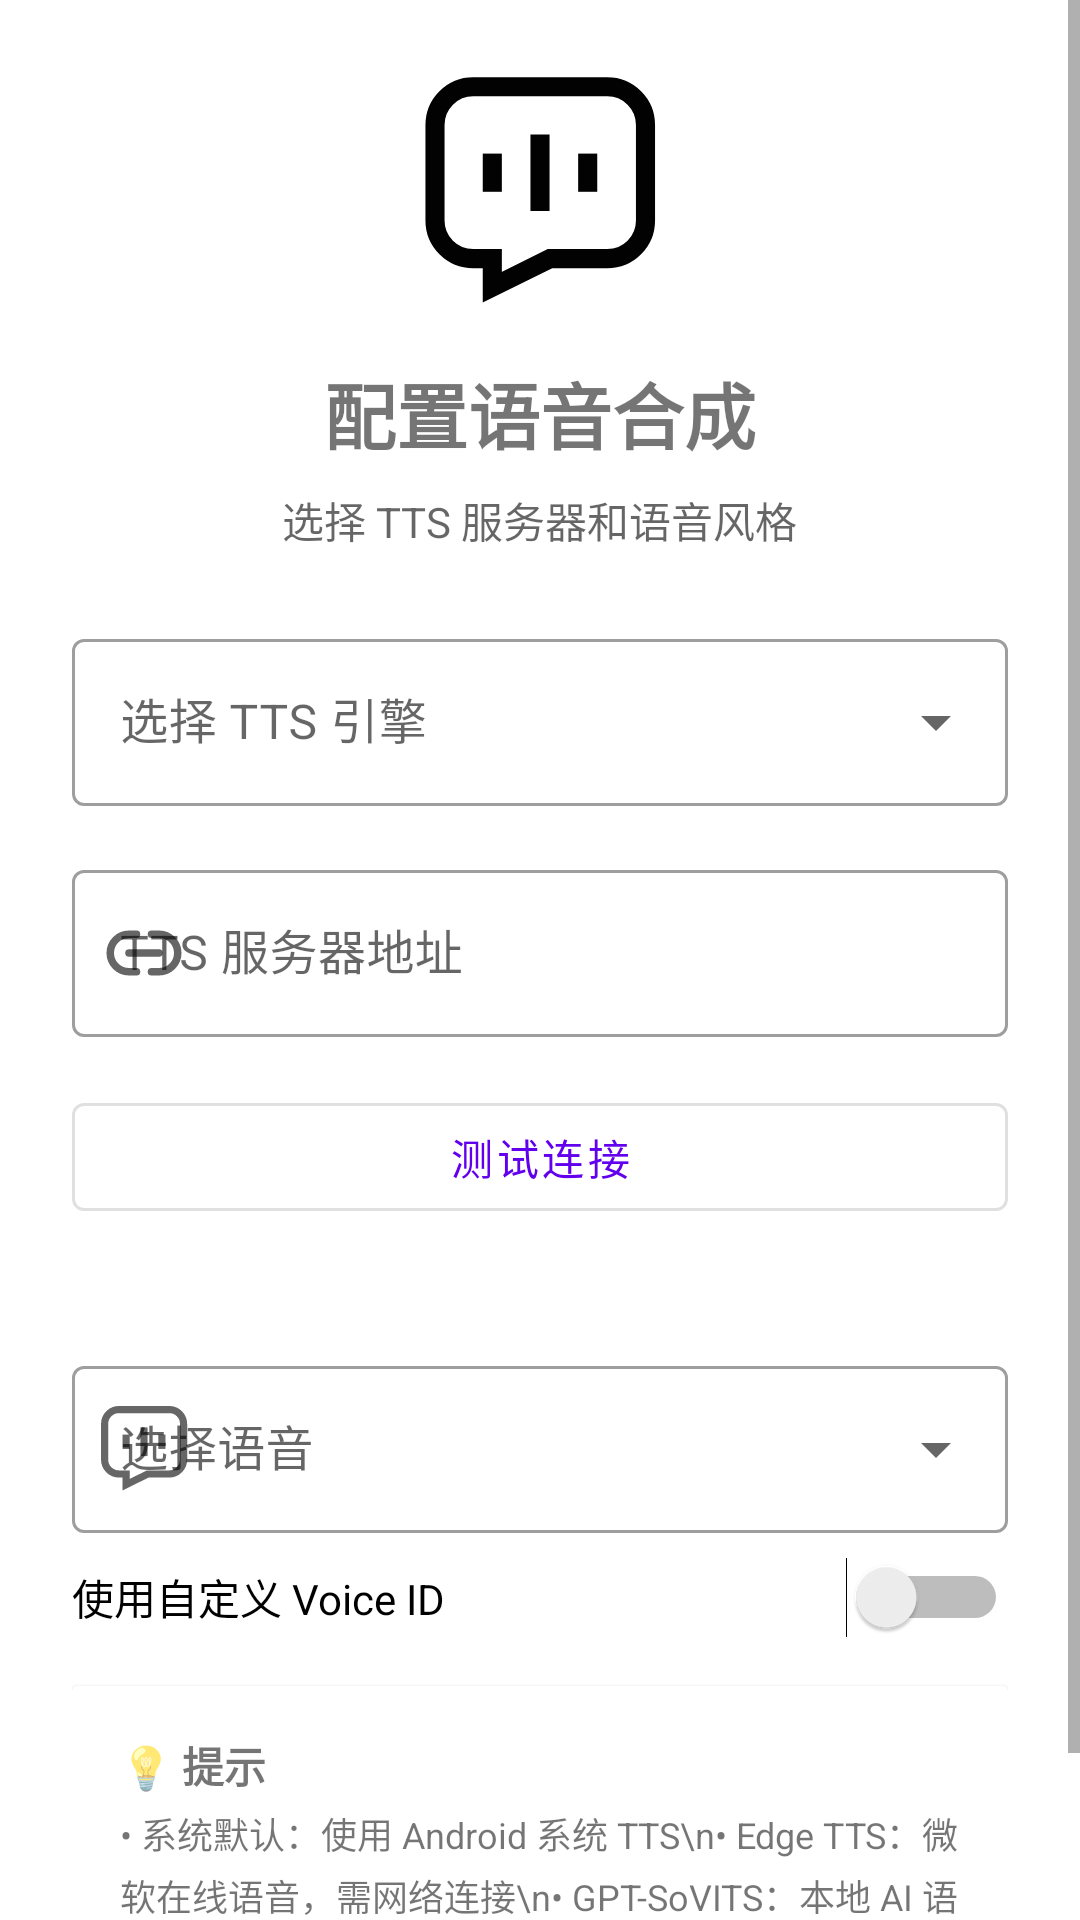

Screen size 1080w x 1920h. Icon name, then its box in pixels as bbox=[x1, y1, x2, y2]:
audio chat: bbox=[425, 77, 655, 303]
